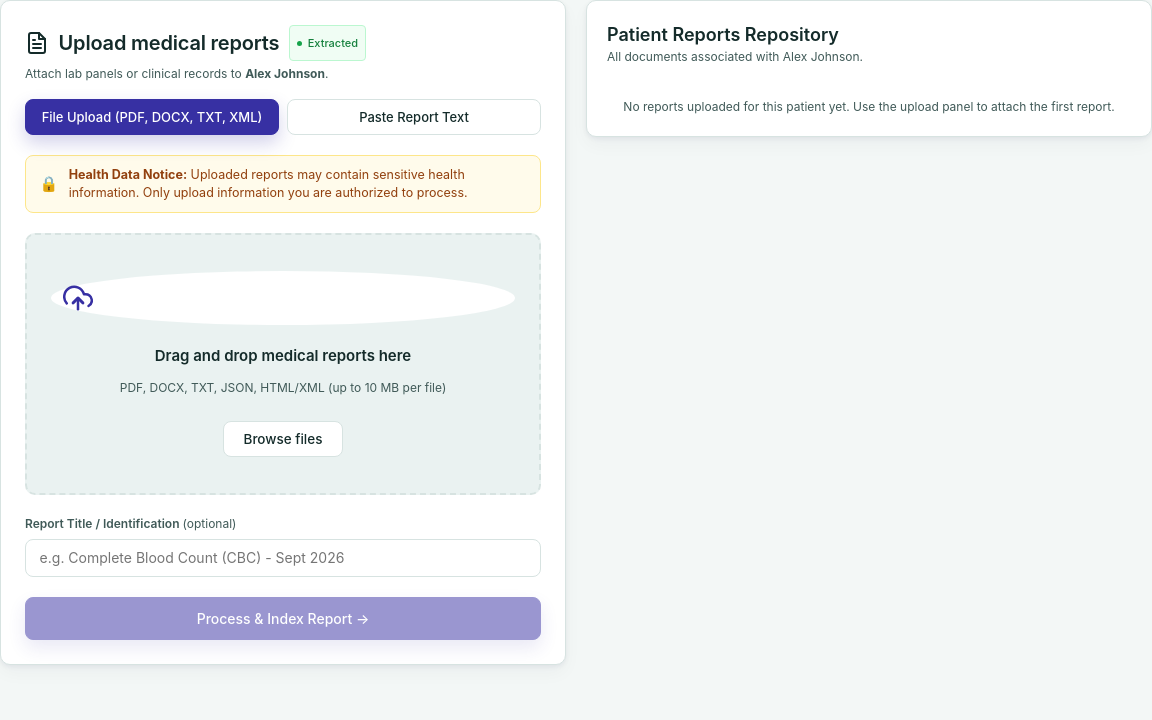
Test: ReportsPage › switches to paste text mode and renders textarea
Step 1. Click the button "Paste Report Text" → (414, 117), box [287, 99, 541, 135]
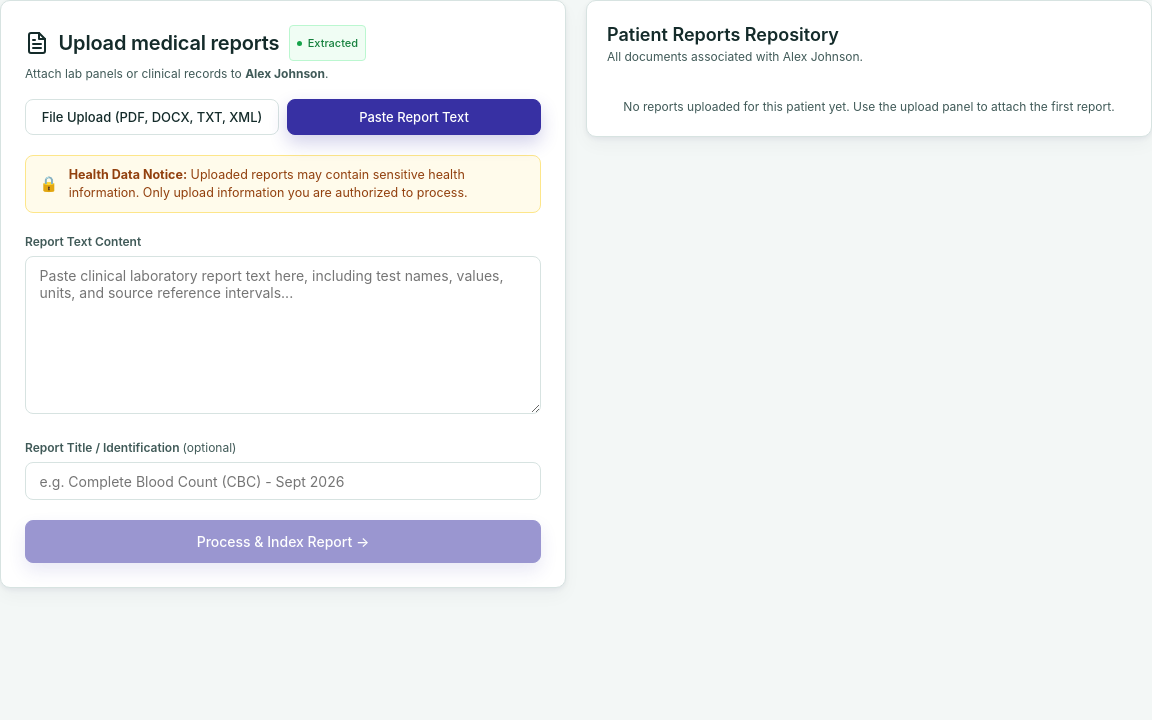
expect the button "Process & Index Report →" is shown: met, box [25, 520, 541, 563]
expect the text box with placeholder "Paste clinical laboratory report text" is shown: met, box [25, 256, 541, 414]
